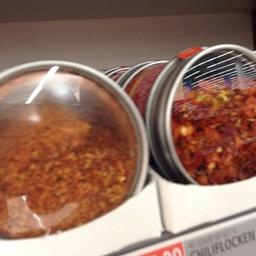spices: (0, 58, 146, 240), (148, 44, 254, 186)
